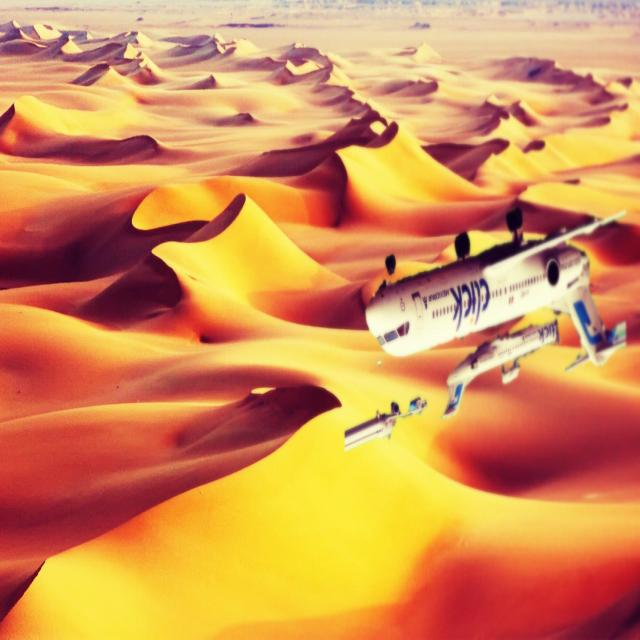airplane: (365, 201, 628, 379), (441, 317, 560, 419), (344, 396, 427, 451)
